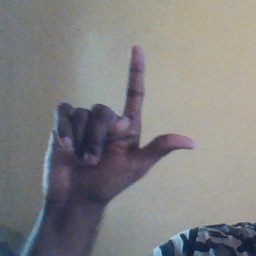L: (40, 45, 198, 202)
